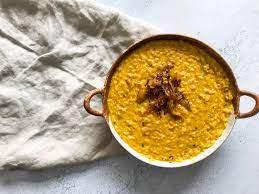Dhal Curry: (106, 44, 234, 166)
